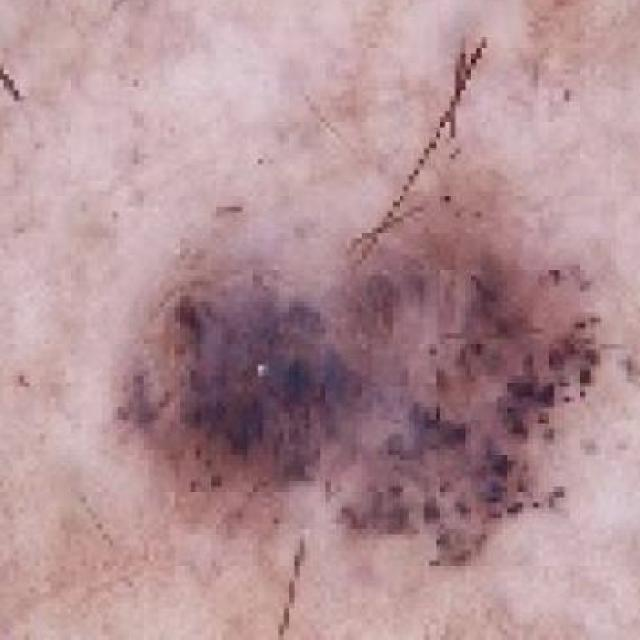BKL: (0, 166, 629, 640)
